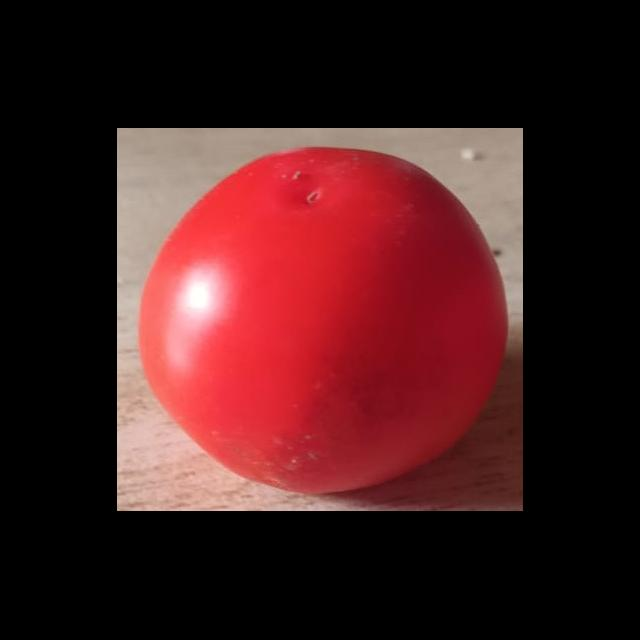tomato: (134, 137, 513, 492)
